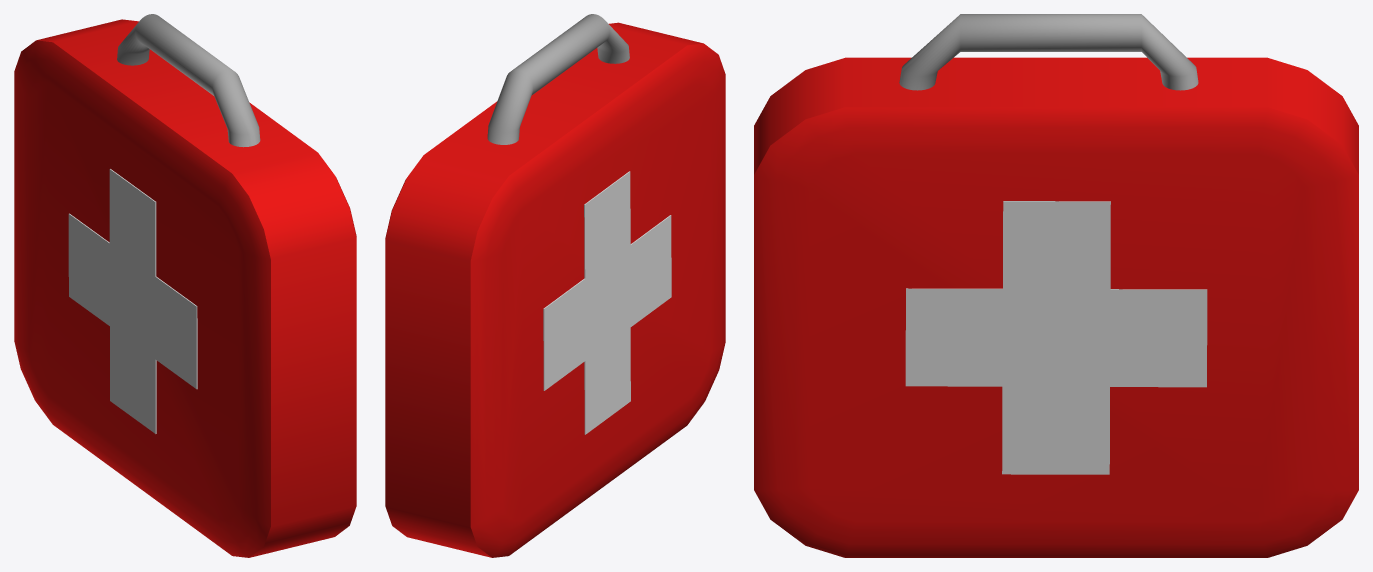
The model's file is medikit (1) 1.fbx.
3 views of the same model, side by side, from view 1: azimuth 30°, elevation 25°; view 2: azimuth 150°, elevation 25°; view 3: azimuth 270°, elevation 25° (orthographic). The views are drawn at different scales.
Parts seen in each view (by area): view 1: Cube, Cube.001; view 2: Cube, Cube.001; view 3: Cube, Cube.001.
Part boxes in pixels (x1,y1,x2,y2): Cube: (14,14,356,557); Cube.001: (68,169,197,433); Cube: (385,14,725,557); Cube.001: (543,171,671,434); Cube: (754,14,1358,557); Cube.001: (905,201,1207,474).
Bounding box in the file's own units: 66.51 × 265 × 281.
